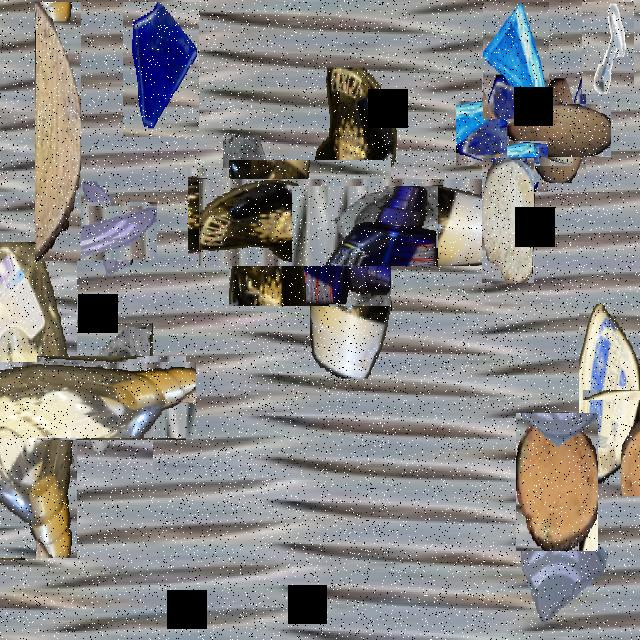glass: (204, 152, 324, 271), (52, 340, 170, 456), (521, 486, 607, 638), (123, 2, 199, 137), (469, 88, 561, 179), (483, 2, 549, 119), (66, 191, 146, 271)
metal: (582, 2, 634, 94), (606, 366, 640, 423)
plastic: (254, 123, 453, 321), (0, 301, 136, 498), (229, 160, 391, 306), (579, 304, 640, 496)
wood: (35, 2, 81, 261), (516, 413, 598, 551), (482, 158, 534, 283), (520, 91, 598, 169)
